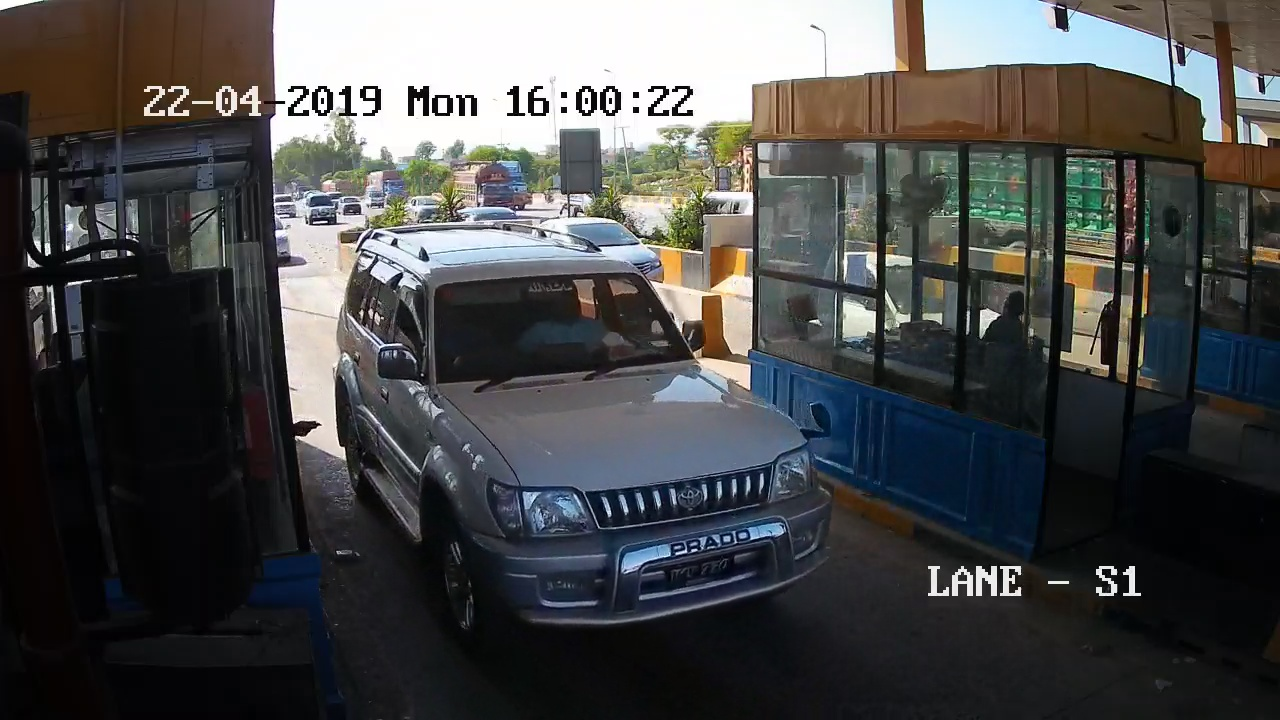Number Plate (Car): (660, 556, 738, 588)
